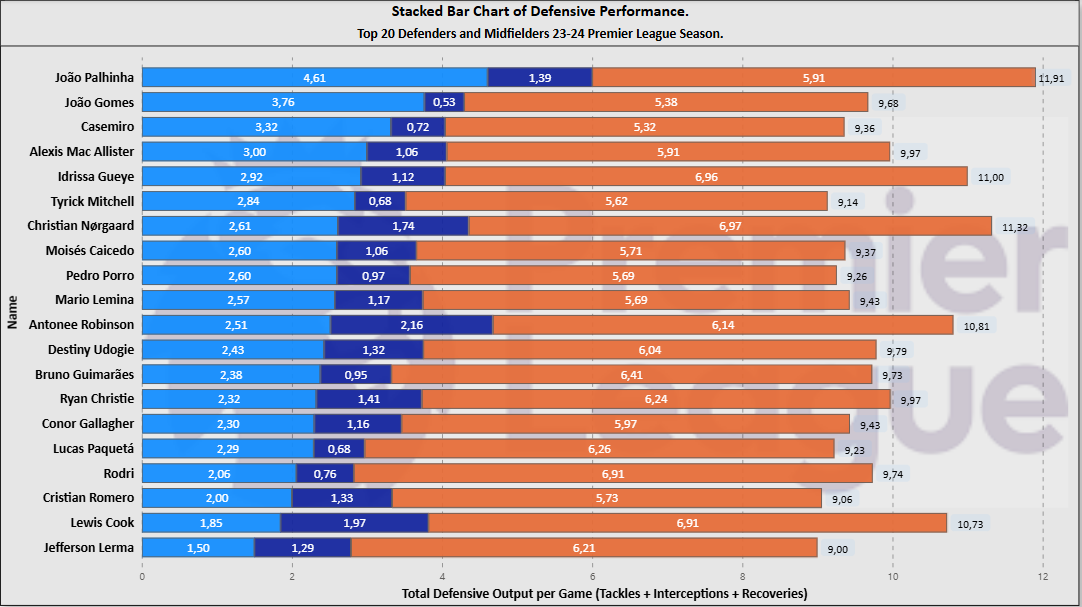

What the dashboard file says about the page in this screenshot:
{"tool":"powerbi","page":{"name":"Page 2","canvas":[1280,720],"ordinal":1},"visuals":[{"type":"barChart","title":"Stacked Bar Chart of Defensive Performance.","fields":{"Category":["pl_23_24.Name"],"Y":["Sum(pl_23_24.Tackles per Game)","Sum(pl_23_24.Interceptions per Game)","Sum(pl_23_24.Recoveries per Game)"]},"box":[9.7,0,1255.7,705.2],"z":0}]}

Visuals, with their boxes in screenshot pixels (x1, y1, x2, y2), scaled from the page's 1280x720 canvas onto the 1082x607 screenshot:
"Stacked Bar Chart of Defensive Performance." barChart: [8, 0, 1070, 595]
